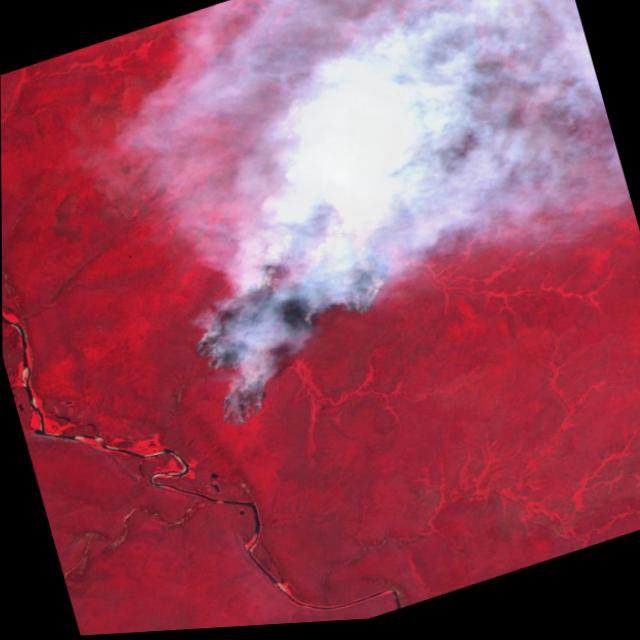fire: (167, 207, 416, 389), (204, 372, 281, 439)
